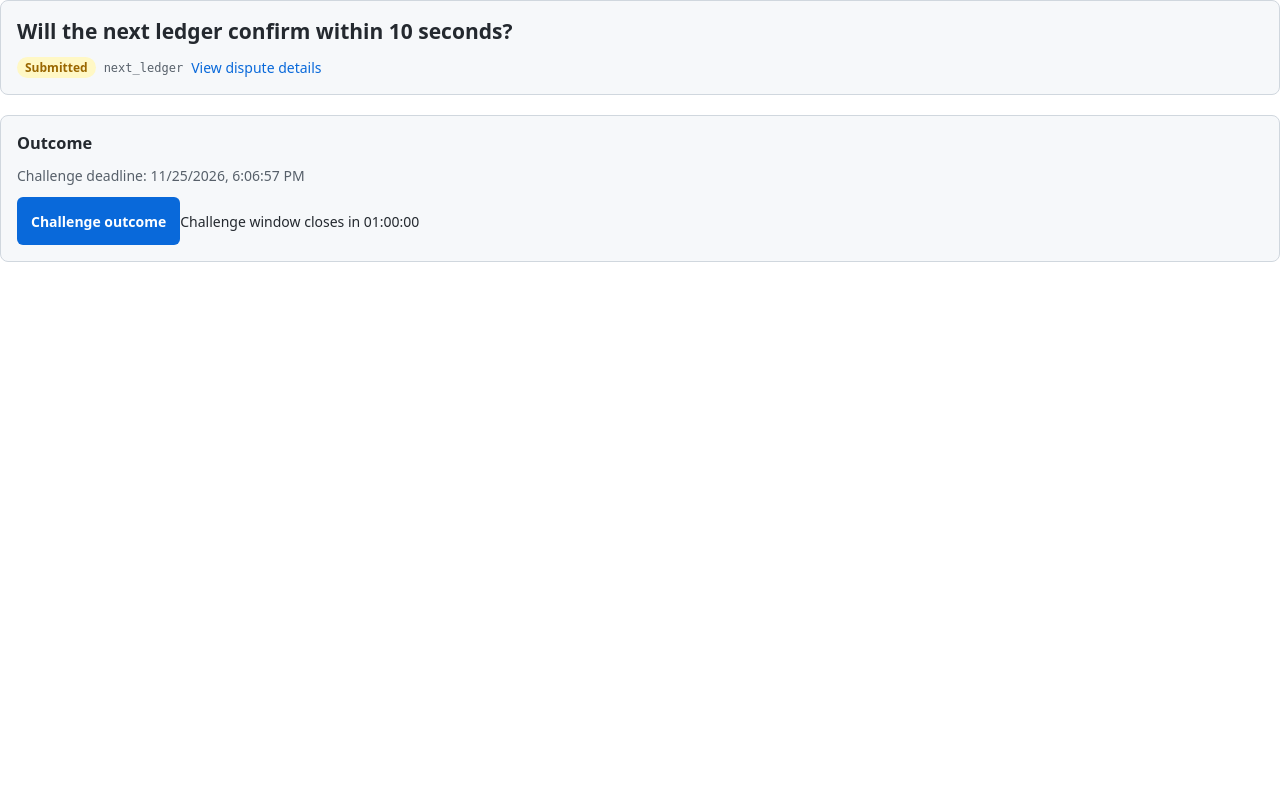
Test: MarketPage › rolls back the optimistic state when signing fails
Click the button "Challenge outcome". click: (99, 221)
box: 17,197 -> 180,245
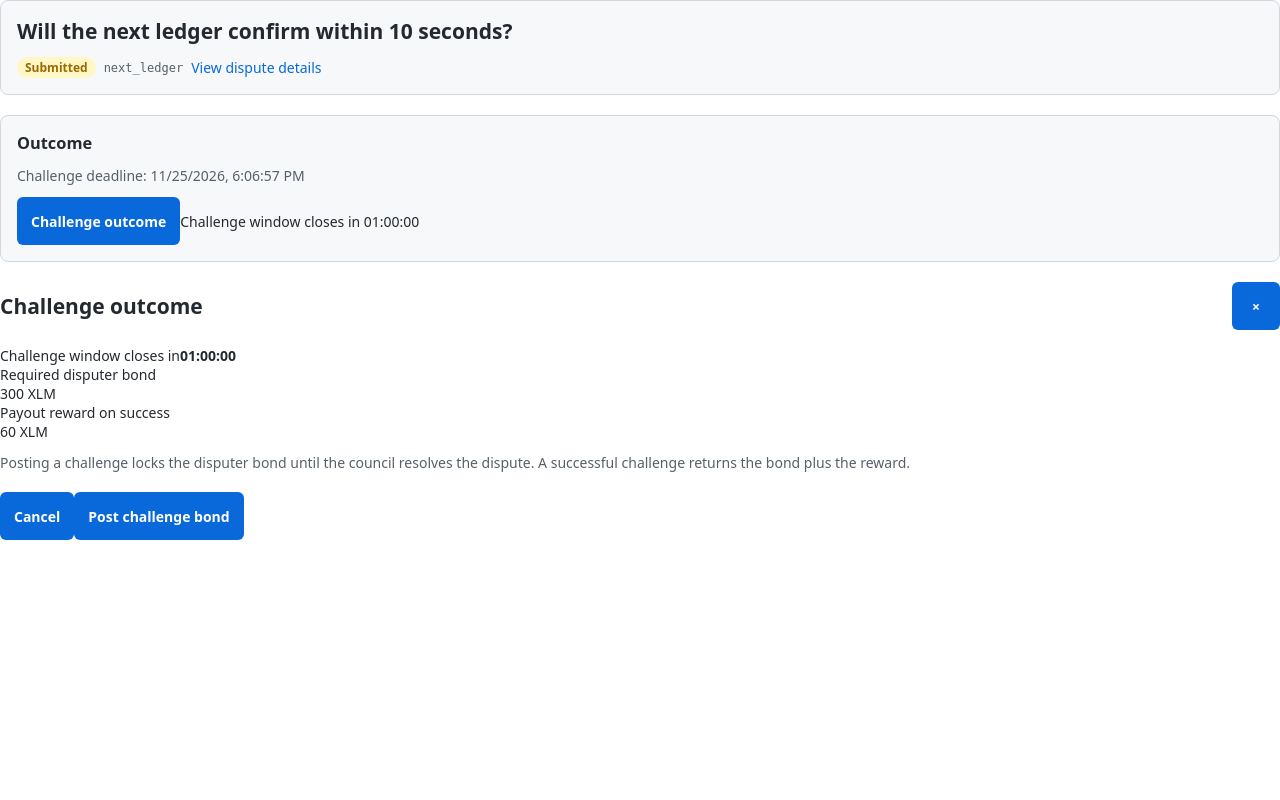
Click the button "Post challenge bond". click: (159, 516)
box: 74,492 -> 244,540
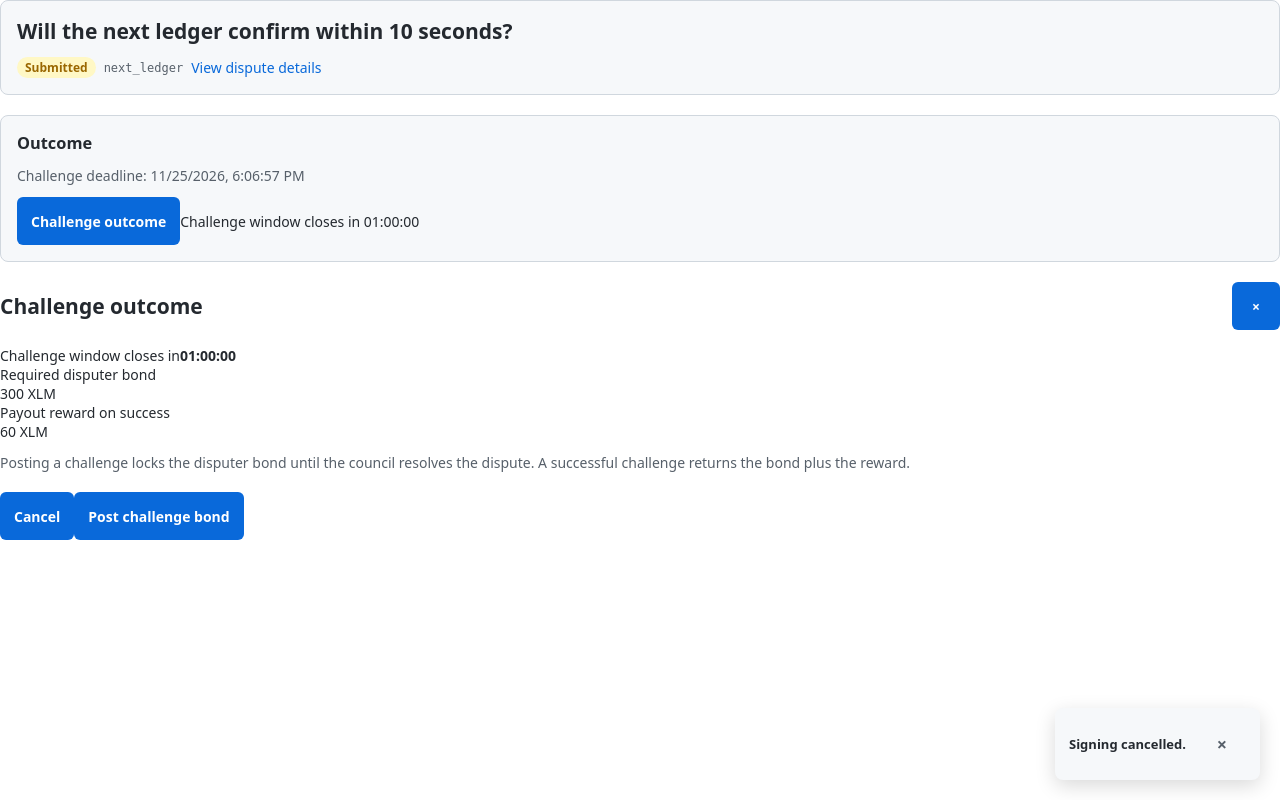
Expected: the text "Submitted" is shown, 17,57 -> 96,78
Expected: the text "Signing cancelled." is shown, 1069,735 -> 1186,753
